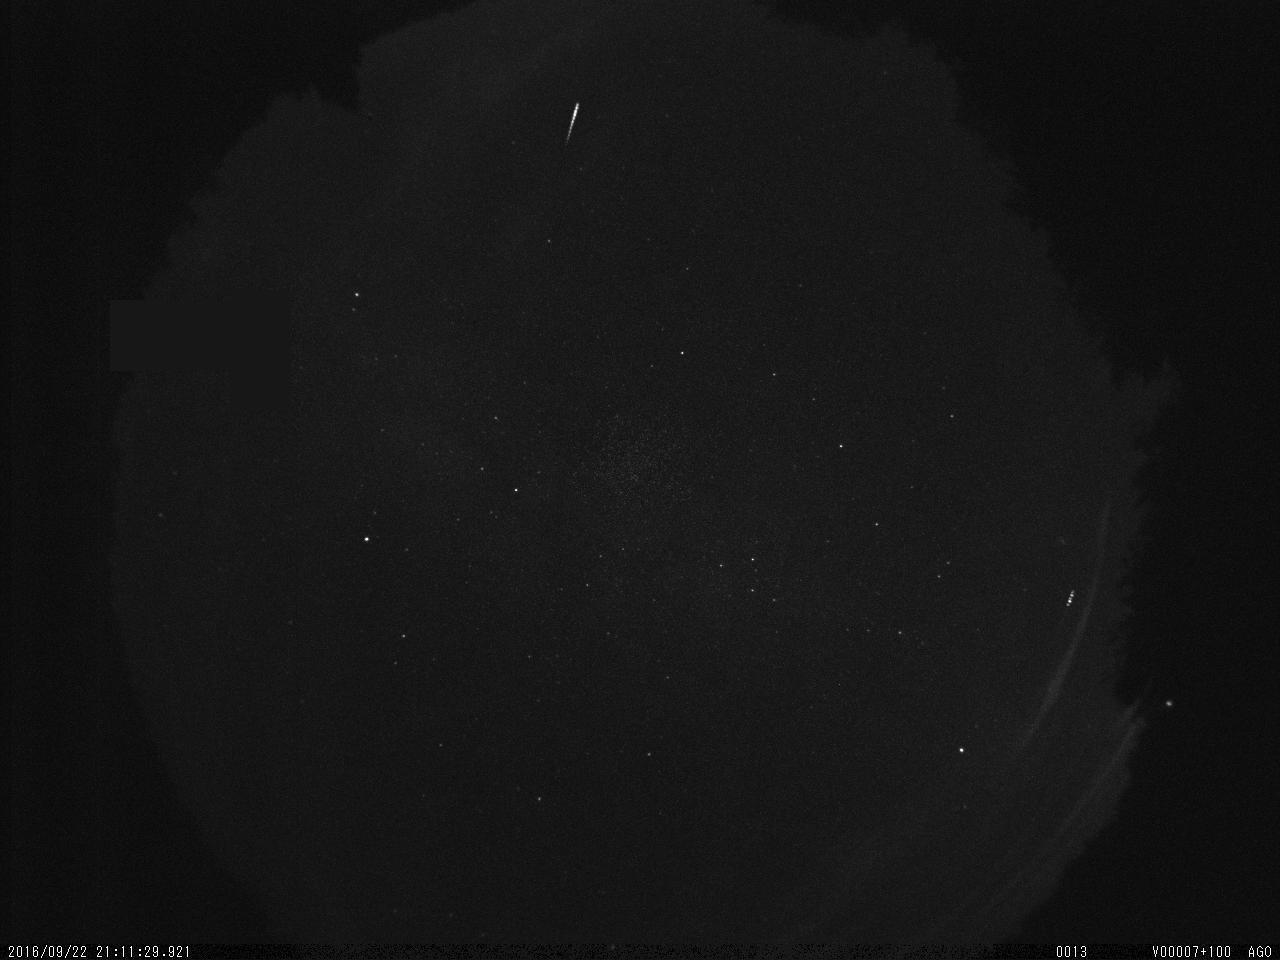meteor: (559, 90, 590, 157)
